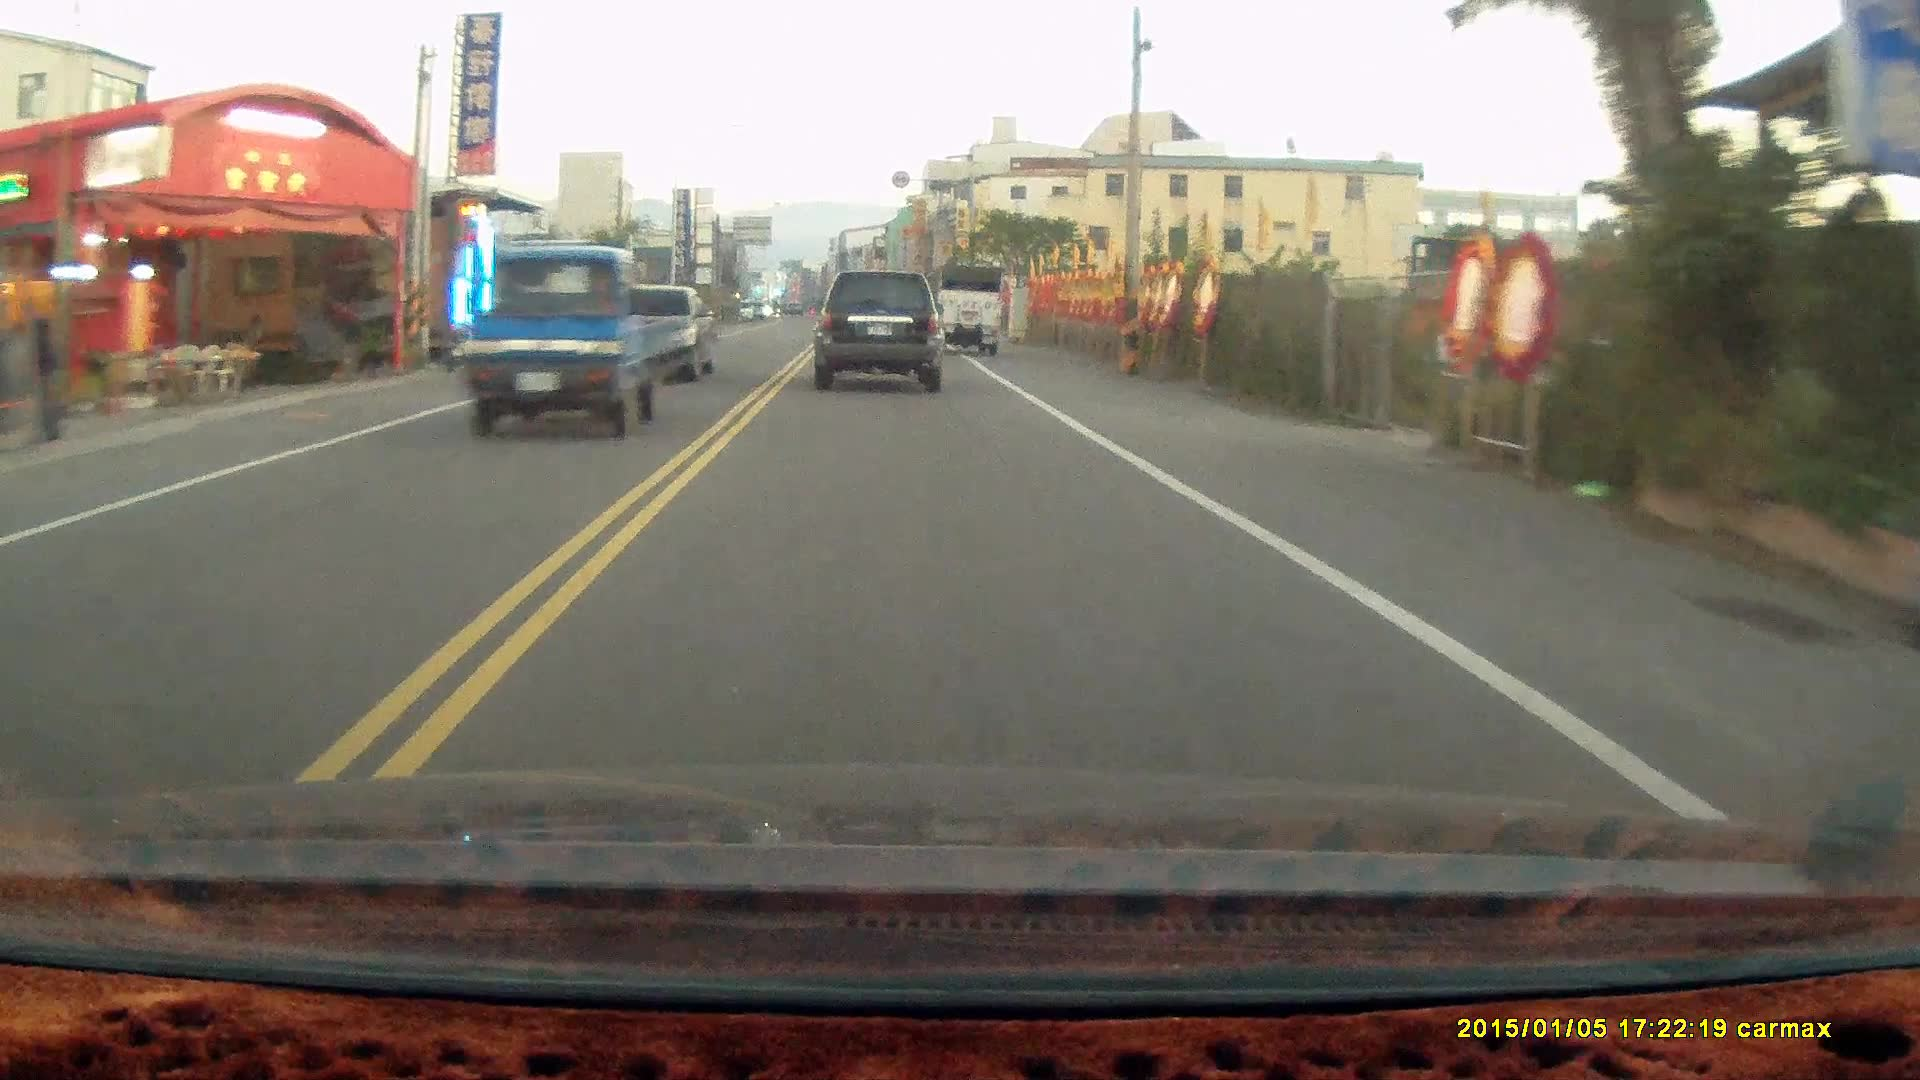vehicle: (463, 249, 686, 431), (815, 266, 951, 394), (936, 262, 1007, 359)
